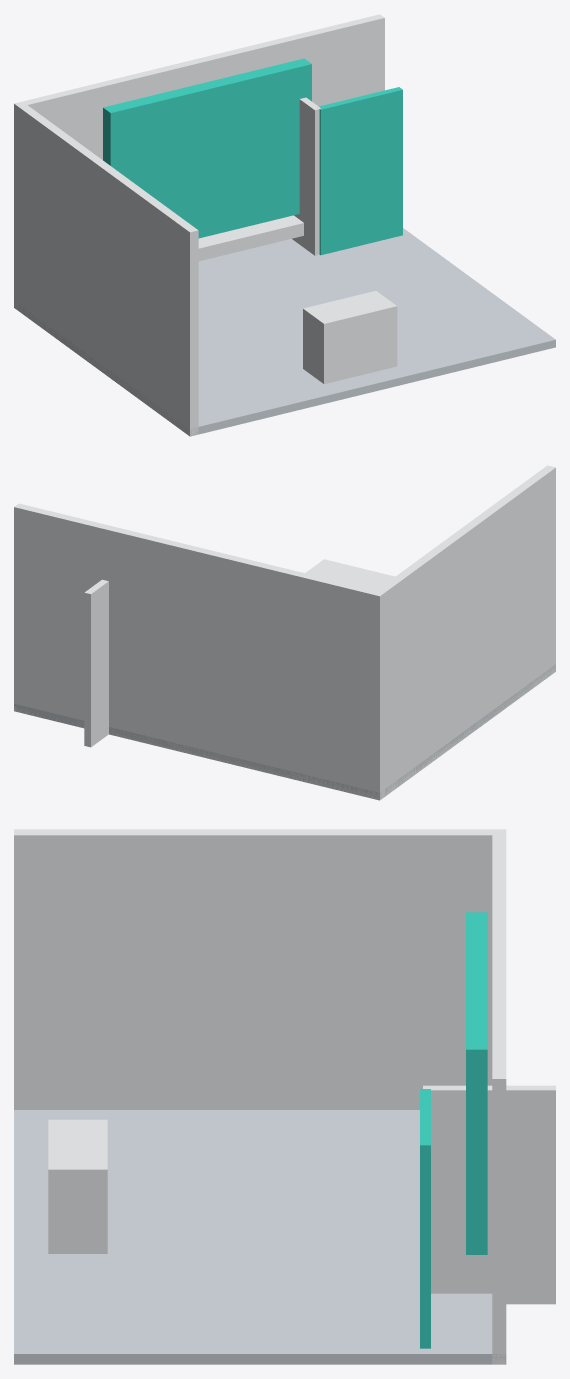
3 views of the same model, one above another, from view 1: azimuth 30°, elevation 25°; view 2: azimuth 150°, elevation 25°; view 3: azimuth 270°, elevation 25° (orthographic). The views are drawn at different scales.
Parts seen in each view (by area): view 1: Exhibition Booth Concept; view 2: Exhibition Booth Concept; view 3: Exhibition Booth Concept.
Part boxes in pixels (box(x1,y1,x2,y2)): Exhibition Booth Concept: box(14, 14, 555, 436); Exhibition Booth Concept: box(14, 465, 555, 800); Exhibition Booth Concept: box(14, 829, 555, 1364).
Size of the model in its own units: 6 by 3.2 by 5.51.
